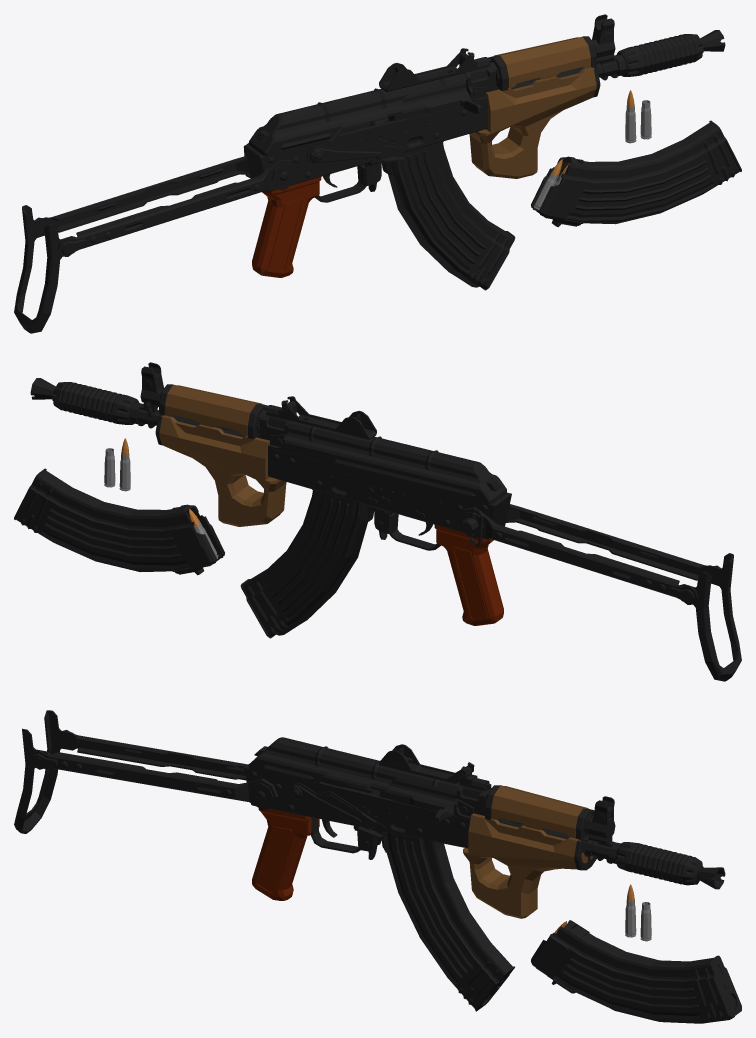
The model's file is low-poly_akmsu.glb.
3 renders of one model, top to bottom at view 1: azimuth 30°, elevation 25°; view 2: azimuth 150°, elevation 25°; view 3: azimuth 330°, elevation 25°, orthographic.
Visible parts, largest first — view 1: ak 30rnd steel mag_14, akmsu handguard_5, ak 30rnd empty steel mag_13, akms stock base_15, akmsu receiver_2, akmsu dust cover_7, akmsu pisstol grip_3, akms stock butt_16, akmsu flash hider_17, akmsu bolt carrier_8, akmsu barrel_9, akmsu selector_1 (+1 smaller); view 2: ak 30rnd steel mag_14, akmsu handguard_5, ak 30rnd empty steel mag_13, akmsu dust cover_7, akmsu receiver_2, akms stock base_15, akmsu pisstol grip_3, akms stock butt_16, akmsu flash hider_17, akmsu barrel_9, akmsu gas tube_6; view 3: ak 30rnd steel mag_14, akmsu handguard_5, ak 30rnd empty steel mag_13, akmsu receiver_2, akms stock base_15, akmsu dust cover_7, akmsu pisstol grip_3, akmsu flash hider_17, akms stock butt_16, akmsu barrel_9, akmsu bolt carrier_8, akmsu selector_1 (+1 smaller).
Part boxes in pixels (x1,y1,x2,y2): ak 30rnd steel mag_14: (531,120,741,227); akmsu handguard_5: (469,37,596,178); ak 30rnd empty steel mag_13: (382,141,515,290); akms stock base_15: (35,143,297,256); akmsu receiver_2: (244,52,498,202); akmsu dust cover_7: (249,48,474,156); akmsu pisstol grip_3: (252,177,321,277); akms stock butt_16: (14,205,75,333); akmsu flash hider_17: (616,30,725,76); akmsu bolt carrier_8: (370,76,496,125); akmsu barrel_9: (510,14,626,97); akmsu selector_1: (307,139,405,164); ak 30rnd steel mag_14: (14,468,224,575); akmsu handguard_5: (159,385,286,526); ak 30rnd empty steel mag_13: (240,489,373,638); akmsu dust cover_7: (281,396,506,504); akmsu receiver_2: (257,400,511,550); akms stock base_15: (458,504,720,604); akmsu pisstol grip_3: (434,525,503,625); akms stock butt_16: (680,553,741,681); akmsu flash hider_17: (30,378,139,424); akmsu barrel_9: (129,362,245,445); akmsu gas tube_6: (159,384,267,438); ak 30rnd steel mag_14: (531,920,741,1023); akmsu handguard_5: (463,786,592,918); ak 30rnd empty steel mag_13: (381,832,514,1011); akmsu receiver_2: (244,746,491,853); akms stock base_15: (30,730,278,810); akmsu dust cover_7: (249,737,474,791); akmsu pisstol grip_3: (252,808,319,900); akmsu flash hider_17: (615,842,725,889); akms stock butt_16: (14,710,78,833); akmsu barrel_9: (497,796,620,870); akmsu bolt carrier_8: (370,778,456,823); akmsu selector_1: (289,781,386,838).
Bounding box in the file's own units: 8.17 × 2.63 × 0.7569.
